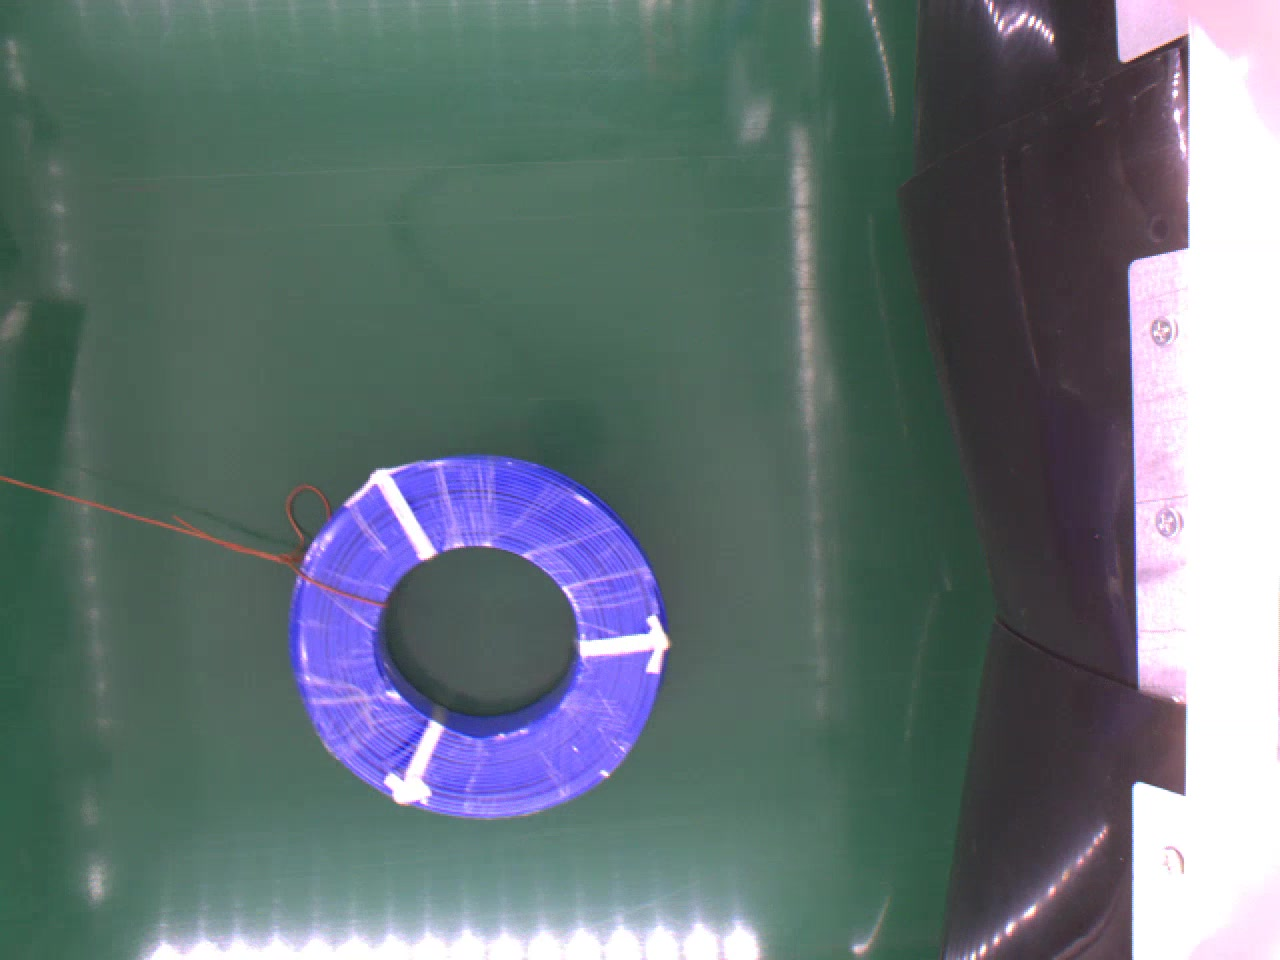blue: (287, 451, 671, 823)
